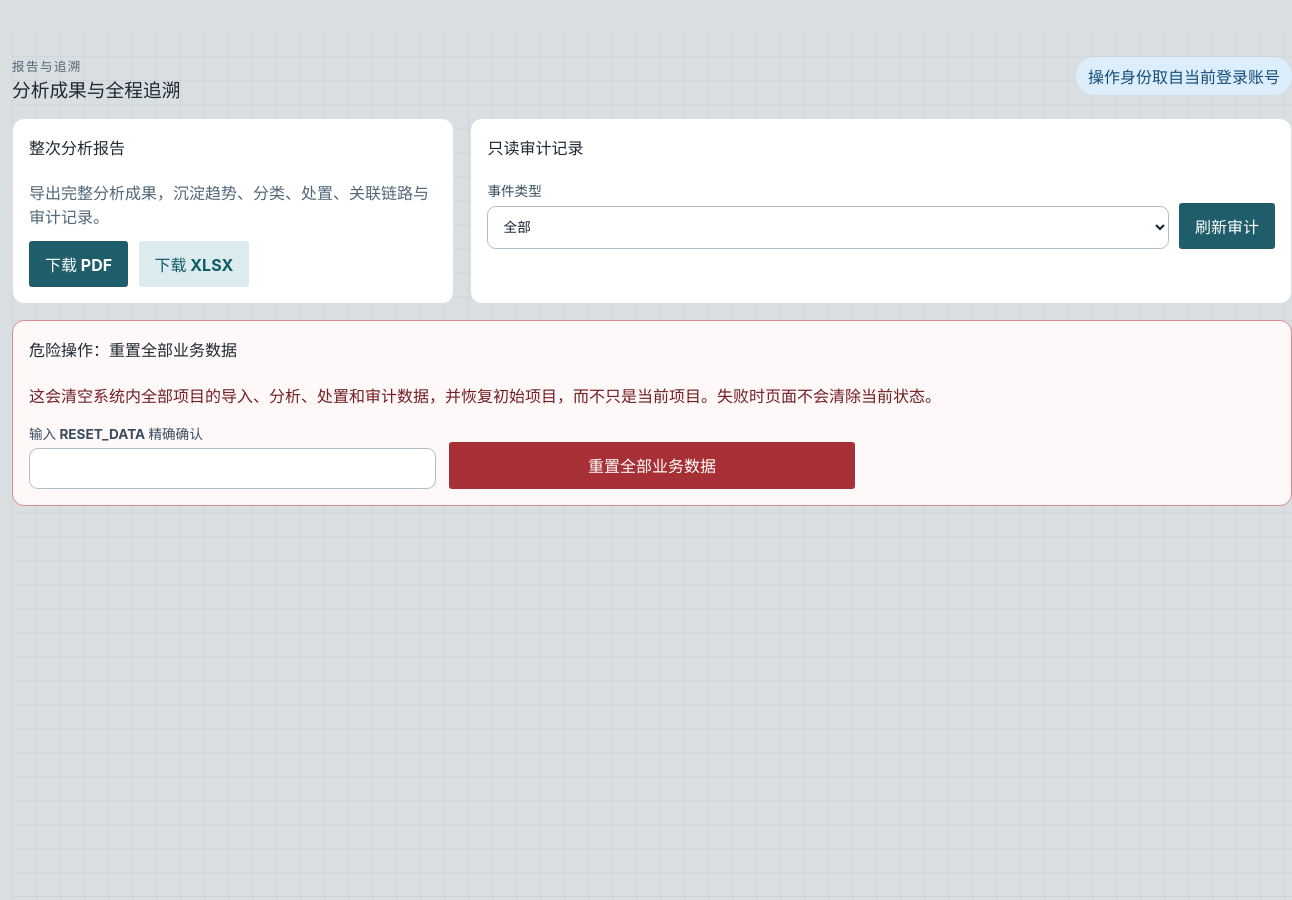
Test case: M5 报告、审计与演示复位 › 复位失败保留状态，重试成功后才通知上层清空业务状态
Type "RESET_DATA" into the field with test id "reset-confirmation".
click(232, 468); type("RESET_DATA")  # box top-left (29, 448), bottom-right (436, 489)
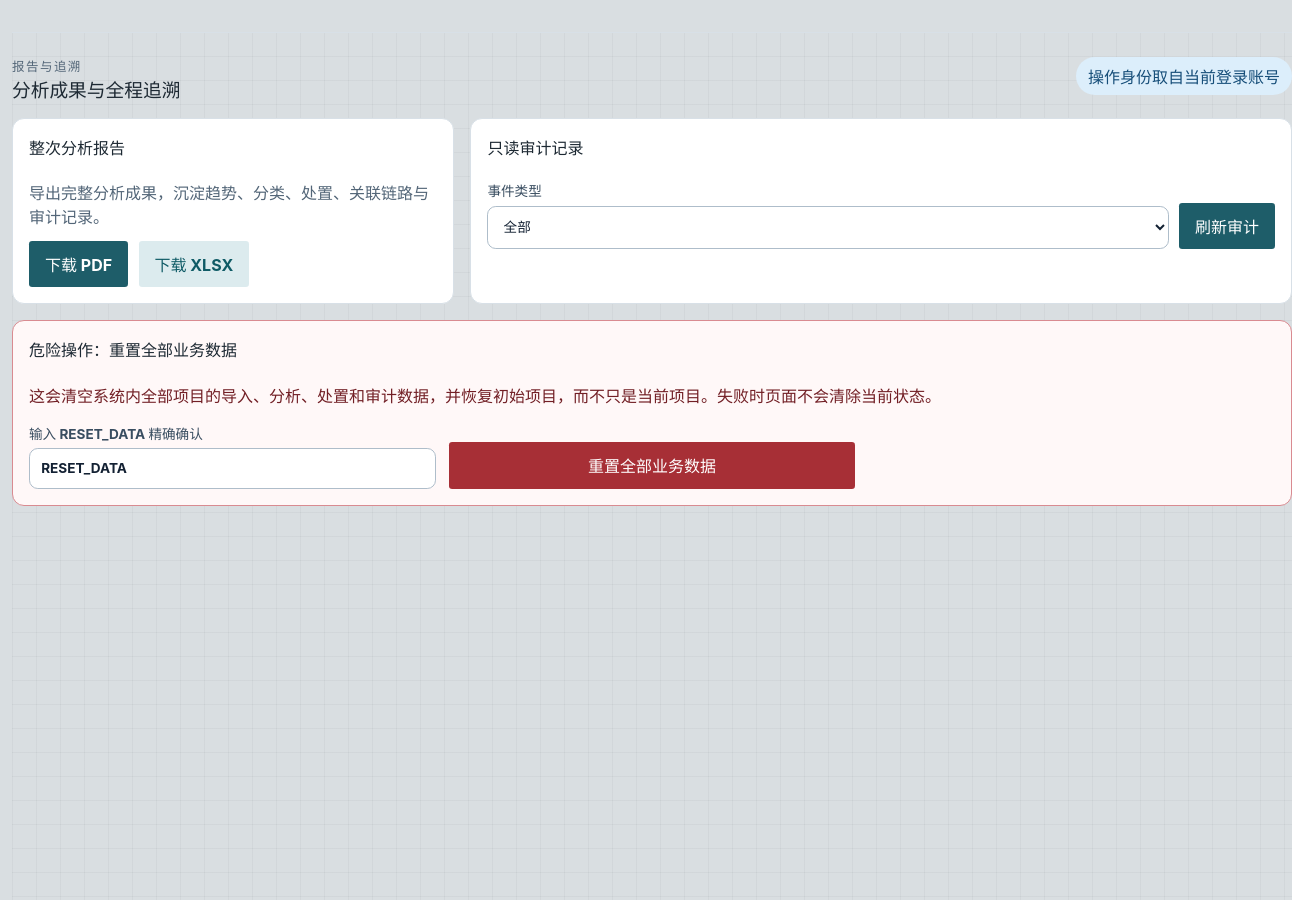
Click the button with test id "reset-button".
click(652, 466)  # box top-left (449, 442), bottom-right (855, 489)
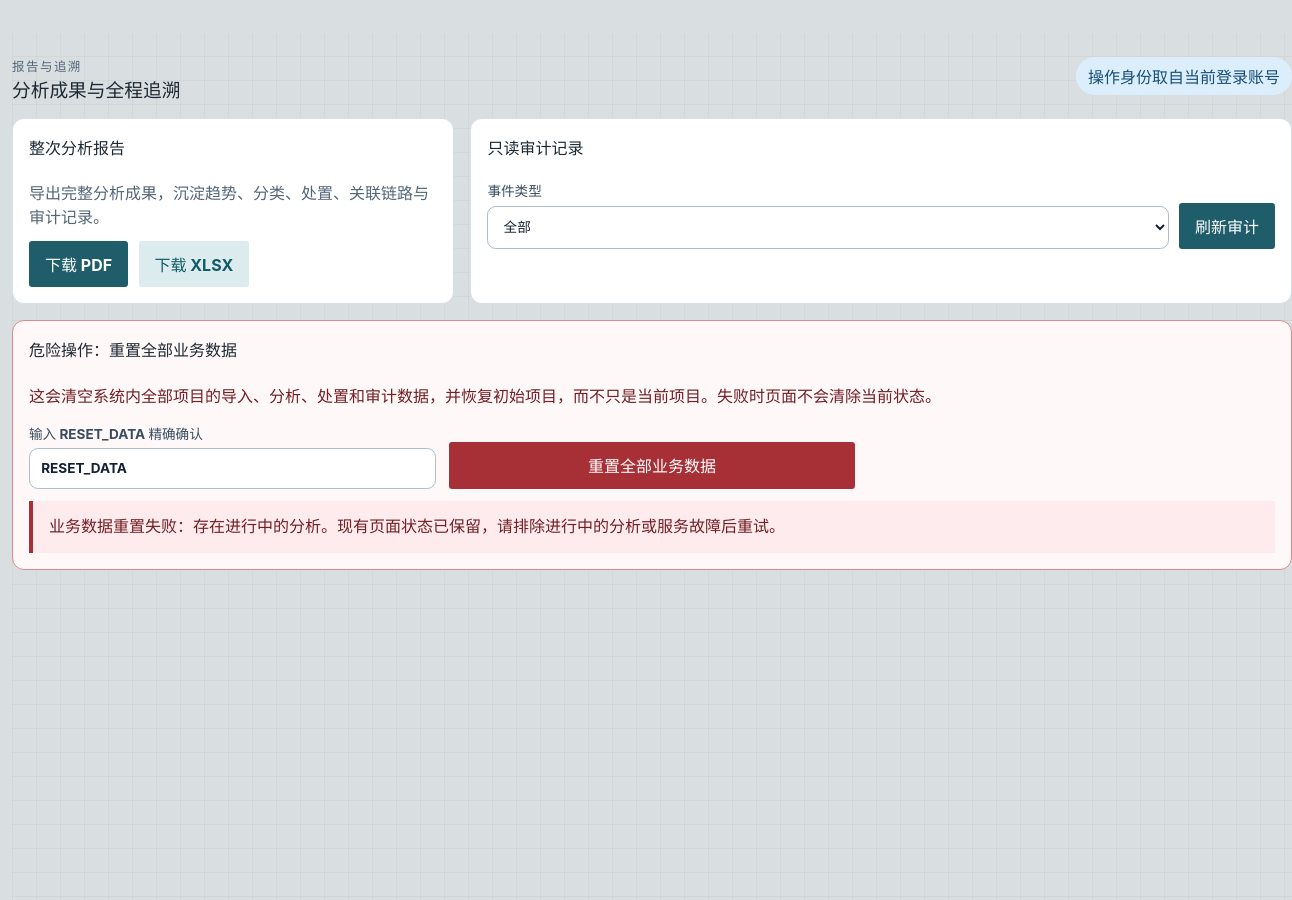
Check: the button with test id "report-pdf" is enabled, box top-left (29, 241), bottom-right (128, 288)
Check: the message with test id "reset-message" shows "存在进行中的分析", box top-left (49, 516), bottom-right (785, 536)
Click the button with test id "reset-button".
click(652, 466)  # box top-left (449, 442), bottom-right (855, 489)
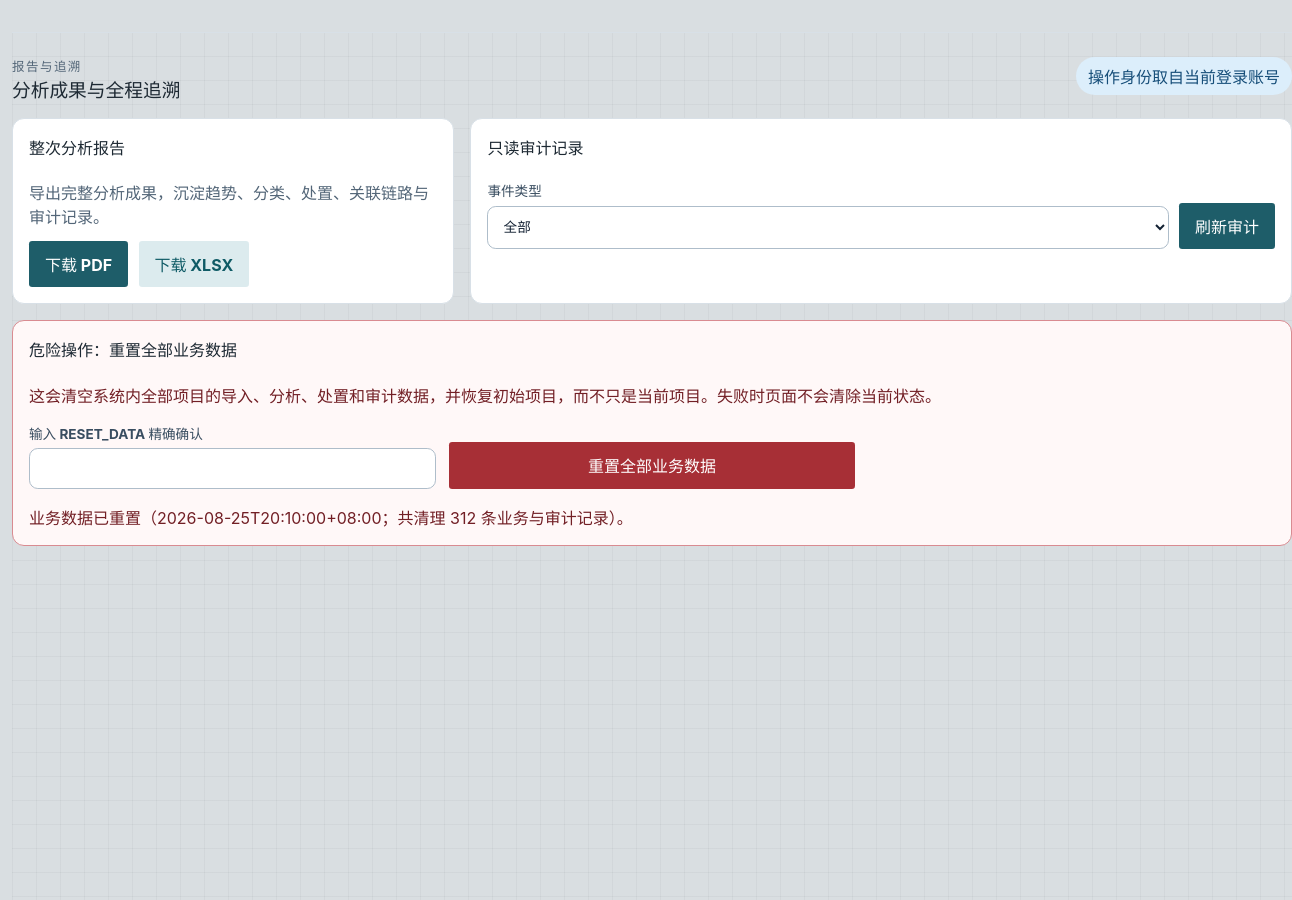
Check: the message with test id "reset-message" shows "业务数据已重置", box top-left (29, 508), bottom-right (633, 528)
